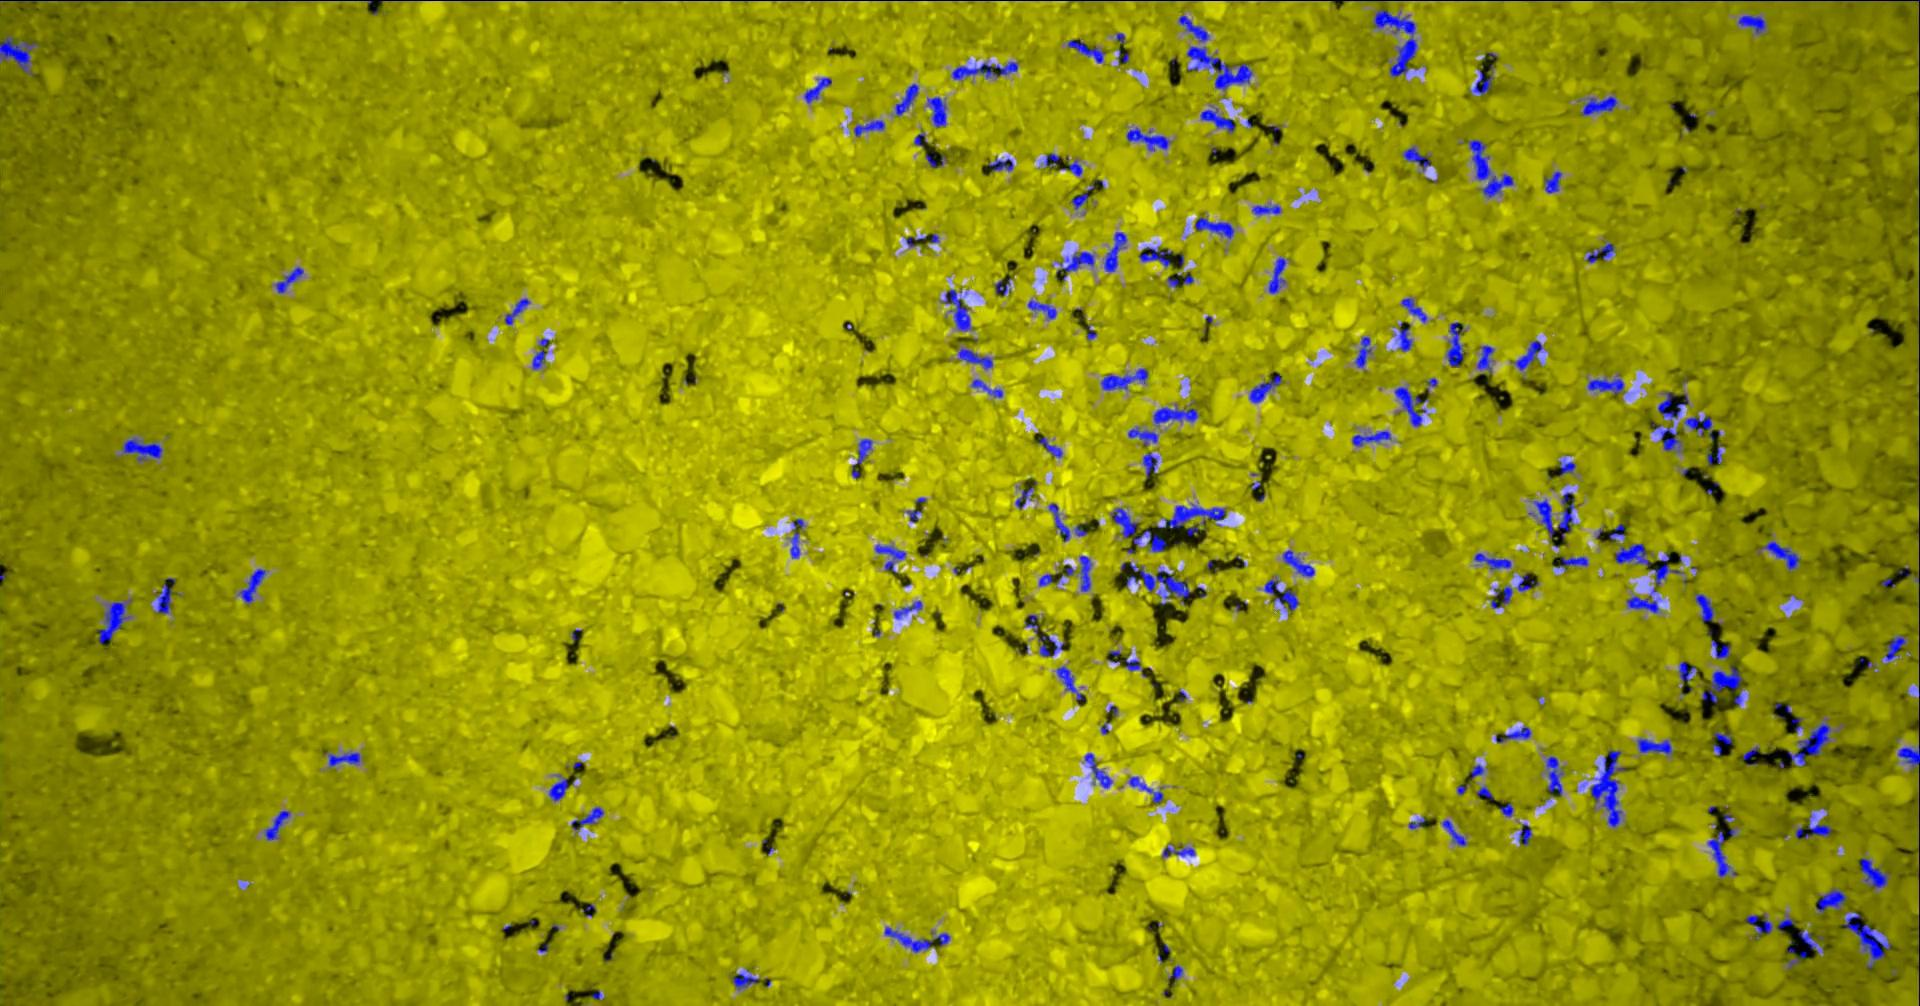ant: (1123, 561, 1192, 605), (1189, 46, 1255, 90), (1375, 9, 1418, 76), (1845, 911, 1892, 969), (1469, 138, 1515, 197), (1112, 507, 1168, 551), (1534, 492, 1576, 540), (1788, 723, 1832, 765), (886, 926, 951, 951), (1157, 506, 1227, 528), (1, 34, 39, 72), (1704, 666, 1743, 702), (1709, 829, 1737, 876), (1396, 386, 1429, 426), (99, 601, 130, 643), (952, 61, 1018, 79), (1763, 541, 1801, 570), (1652, 553, 1685, 586), (945, 290, 971, 330), (1265, 579, 1300, 610), (1057, 251, 1095, 279), (1154, 403, 1200, 426), (1128, 127, 1172, 150), (1102, 368, 1149, 390), (1058, 666, 1086, 700), (124, 437, 164, 461), (240, 568, 267, 603), (1251, 372, 1283, 401), (1086, 753, 1112, 788), (1130, 776, 1164, 803), (1105, 231, 1128, 271), (1862, 857, 1891, 888), (1658, 391, 1690, 419), (876, 544, 907, 572), (1069, 39, 1106, 62), (1203, 107, 1236, 132), (1617, 542, 1651, 567), (1448, 323, 1467, 366), (1516, 340, 1544, 370), (1653, 423, 1683, 451), (1685, 417, 1721, 439), (1817, 887, 1848, 913), (1284, 550, 1316, 575), (1196, 217, 1236, 238), (1796, 818, 1832, 840), (1180, 15, 1210, 41), (1050, 503, 1070, 541), (897, 83, 919, 116), (853, 438, 872, 478), (1589, 373, 1625, 394), (265, 810, 291, 840), (960, 348, 994, 370), (573, 807, 604, 829), (1582, 95, 1618, 116), (277, 267, 305, 292), (157, 577, 177, 614), (805, 77, 833, 102), (1404, 146, 1432, 170), (1548, 756, 1564, 796), (1270, 257, 1288, 293), (1403, 297, 1429, 323), (505, 298, 531, 324), (1443, 819, 1468, 845), (1470, 69, 1495, 95), (1140, 246, 1173, 265), (1747, 915, 1774, 937), (1476, 553, 1512, 569), (973, 379, 1004, 398), (1628, 594, 1660, 614), (930, 97, 949, 127), (1638, 738, 1672, 754), (1352, 431, 1392, 445), (1039, 436, 1064, 457), (1129, 428, 1159, 446), (1589, 243, 1617, 262), (1697, 593, 1716, 621), (895, 600, 923, 619), (550, 774, 569, 801), (855, 119, 886, 136), (533, 338, 550, 370), (1497, 727, 1531, 742), (1029, 300, 1058, 318), (1887, 635, 1907, 661), (1040, 635, 1065, 655), (1356, 337, 1373, 367), (792, 518, 805, 558), (1740, 15, 1768, 33), (1492, 586, 1514, 608), (1898, 747, 1920, 768), (1799, 930, 1820, 953), (907, 232, 940, 246), (1478, 345, 1495, 373), (1714, 730, 1733, 754), (1081, 555, 1093, 591), (329, 752, 361, 766), (733, 973, 759, 989), (1680, 661, 1698, 685), (1556, 556, 1589, 569), (1399, 321, 1413, 351), (1144, 452, 1159, 478), (1126, 657, 1147, 676), (1545, 171, 1563, 193), (1713, 639, 1732, 658), (1017, 486, 1034, 508), (1519, 573, 1540, 589), (1170, 273, 1195, 287), (1789, 950, 1808, 968), (1708, 445, 1724, 465), (1062, 160, 1083, 175), (989, 158, 1015, 170), (1164, 846, 1196, 856), (1072, 192, 1090, 210), (996, 277, 1013, 295), (1743, 746, 1760, 765), (927, 152, 947, 166), (1520, 823, 1533, 845), (1026, 614, 1040, 633), (1255, 205, 1283, 213), (1559, 461, 1577, 475), (1610, 523, 1625, 539), (1478, 785, 1495, 799), (1779, 917, 1796, 931), (1472, 763, 1486, 779), (1170, 965, 1183, 981), (1410, 817, 1427, 828), (1048, 152, 1062, 166), (916, 133, 928, 147), (1040, 573, 1054, 586), (1501, 801, 1514, 815)
